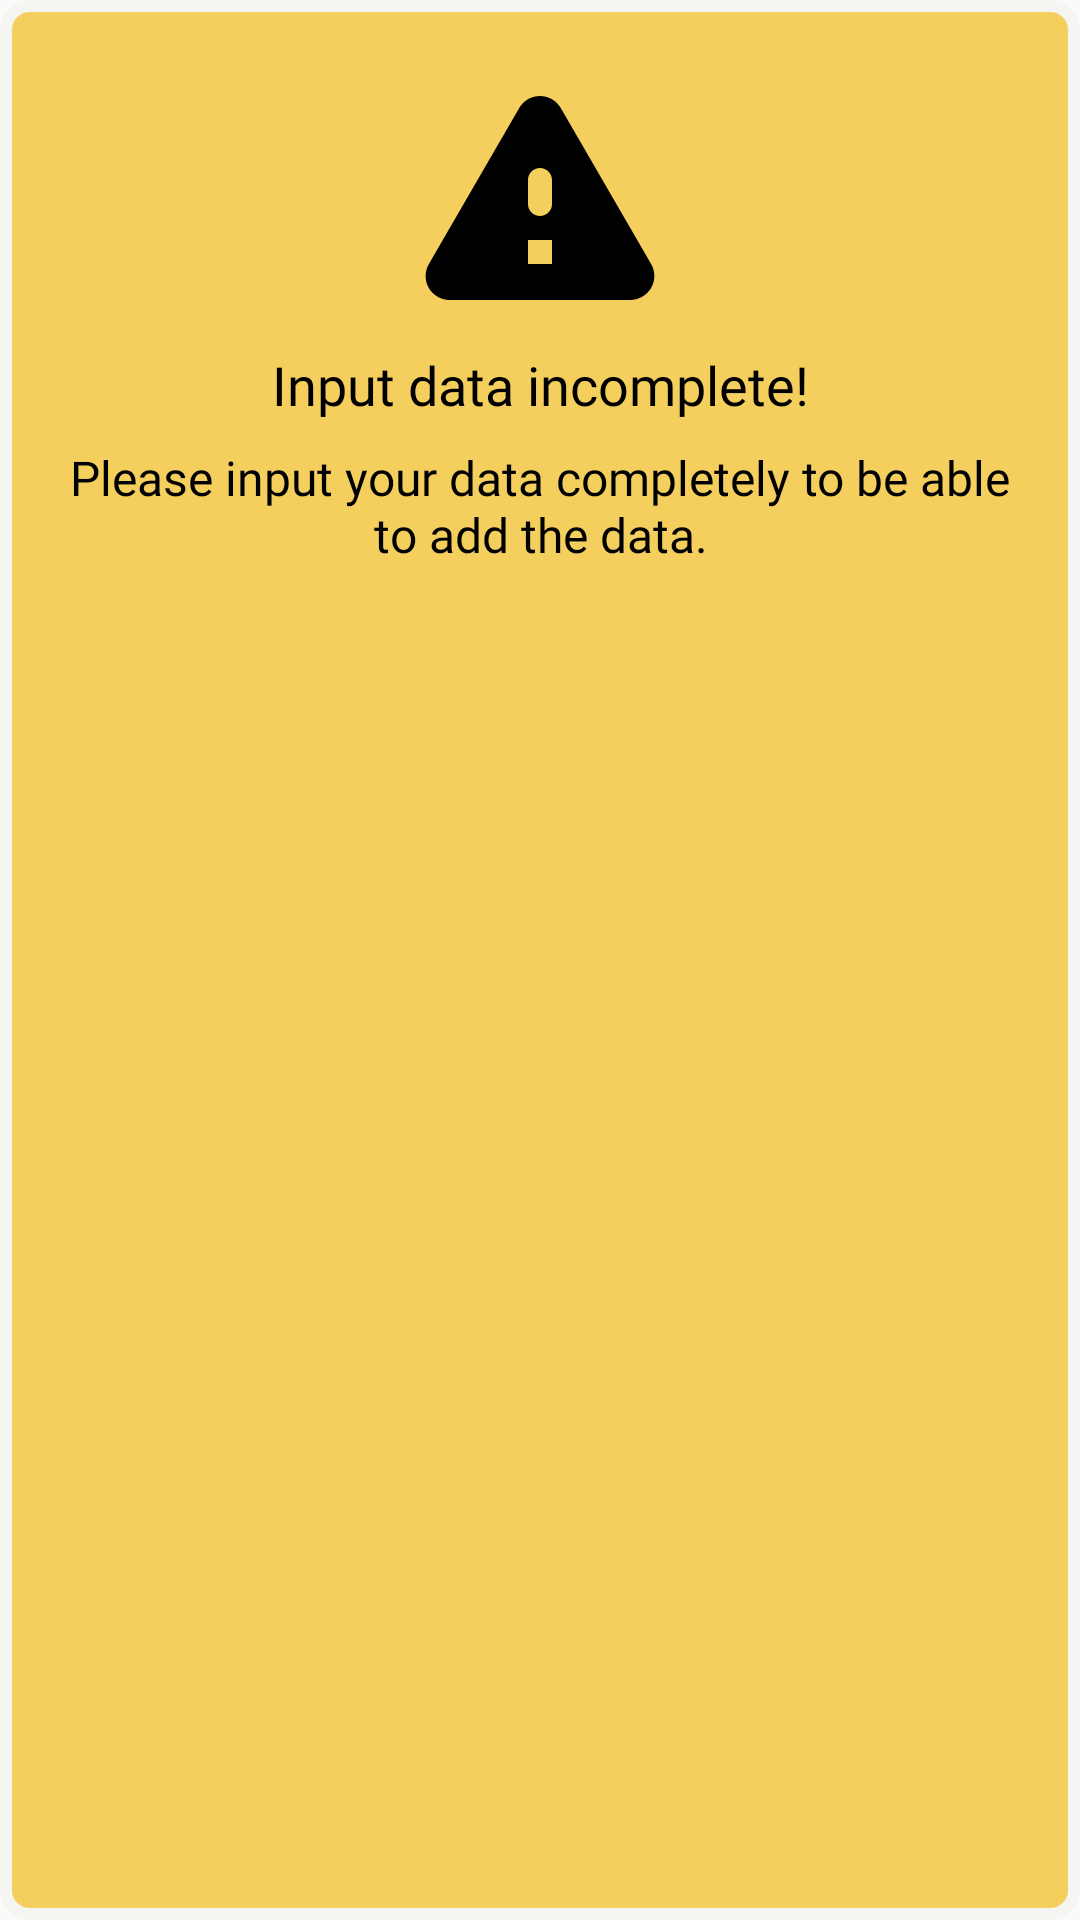

Icons on this 1080 × 1920 Android screen, each with the point to tap as (x,y):
warning: (540,198)
